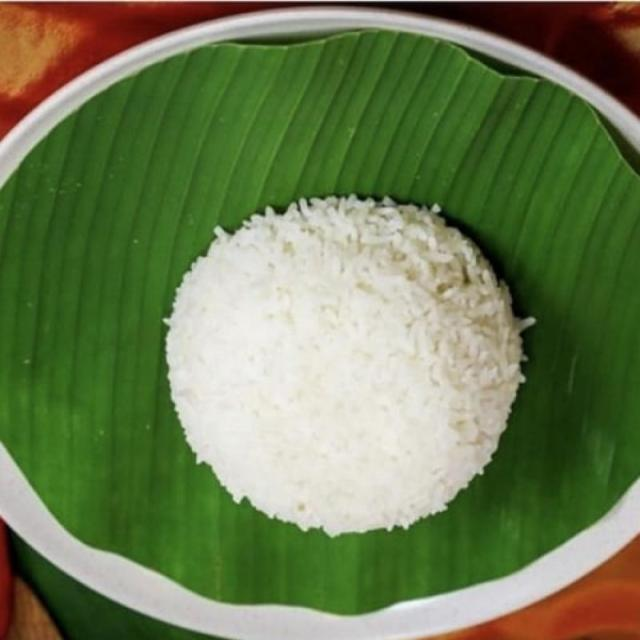nasi_putih: (165, 196, 524, 538)
